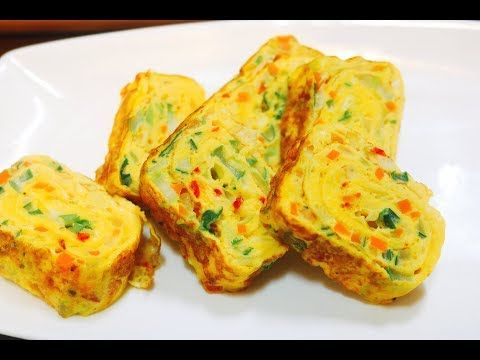gyelanmal-i: (4, 29, 449, 333)
